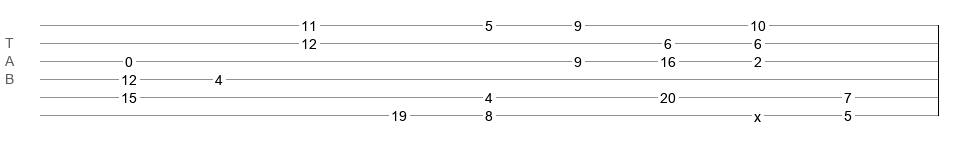0: (125, 54, 133, 64)
10: (750, 18, 766, 28)
11: (301, 18, 317, 28)
12: (121, 72, 137, 82), (301, 36, 317, 46)
15: (121, 90, 137, 100)
16: (660, 54, 676, 64)
19: (391, 108, 407, 118)
2: (754, 54, 762, 64)
20: (660, 90, 676, 100)
4: (215, 72, 223, 82), (485, 90, 493, 100)
5: (485, 18, 493, 28), (844, 108, 852, 118)
6: (664, 36, 672, 46), (754, 36, 762, 46)
7: (844, 90, 852, 100)
8: (485, 108, 493, 118)
9: (574, 54, 582, 64), (574, 18, 582, 28)
x: (754, 109, 761, 117)
